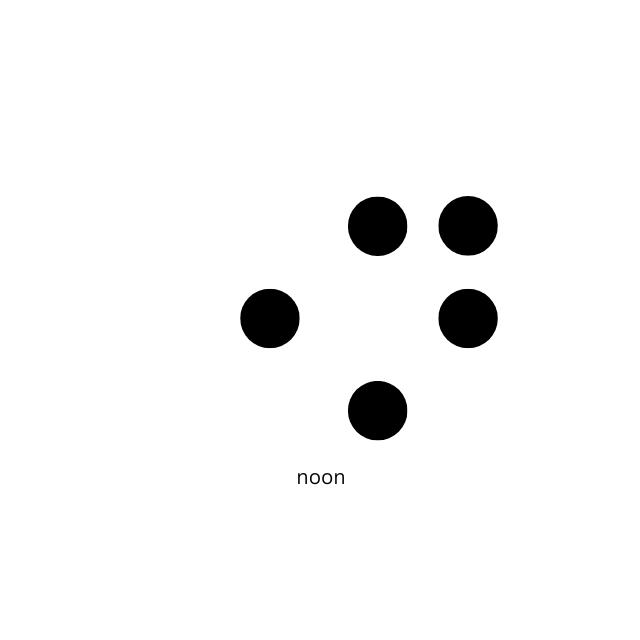dot_5: (156, 193, 299, 436)
two_cell_alphabet_noon: (346, 195, 497, 438)
